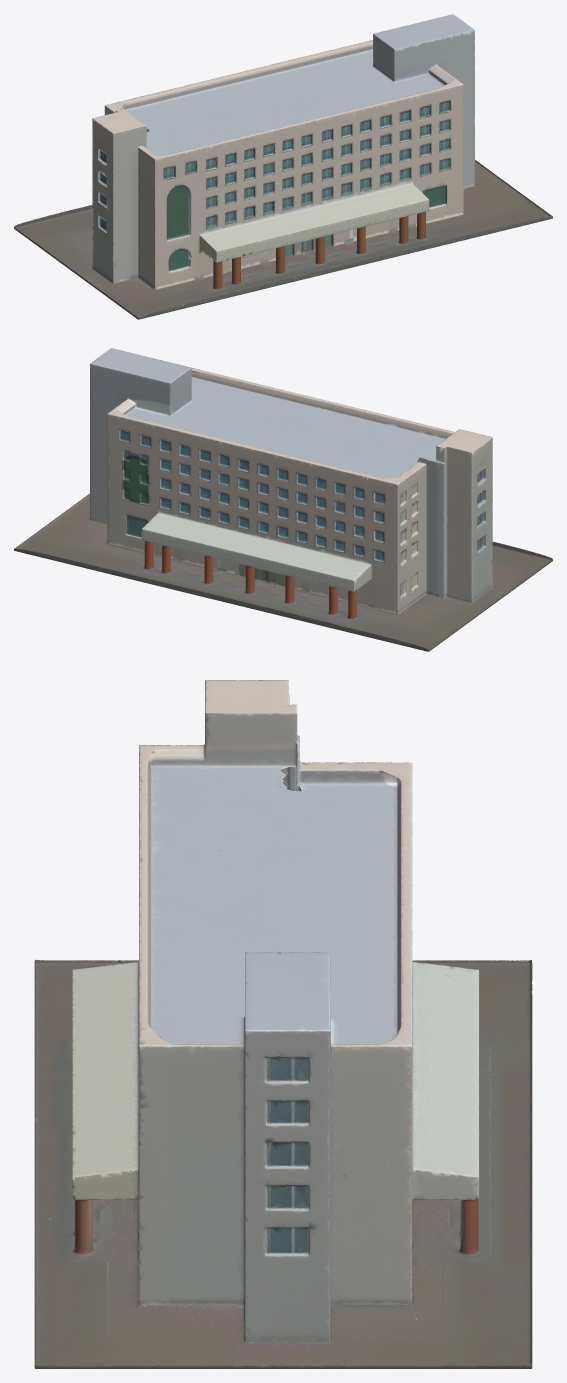
Rendered from gonghak.glb.
3 views of the same model, one above another, from view 1: azimuth 30°, elevation 25°; view 2: azimuth 150°, elevation 25°; view 3: azimuth 270°, elevation 25° (orthographic). The views are drawn at different scales.
Parts seen in each view (by area): view 1: Mesh_0.005; view 2: Mesh_0.005; view 3: Mesh_0.005.
Boxes of the visible parts, x1,y1,x2,y2 form: Mesh_0.005: [14, 14, 552, 319]; Mesh_0.005: [14, 348, 552, 651]; Mesh_0.005: [34, 680, 532, 1368].
Bounding box in the file's own units: 80.37 × 28.99 × 41.73.
1 material, 1 textured.
